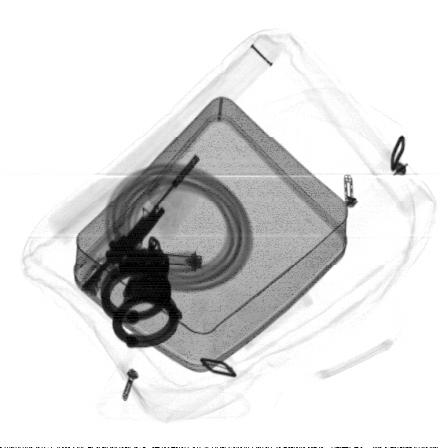Gun: (81, 153, 201, 297)
HandCuffs: (100, 234, 185, 348)
